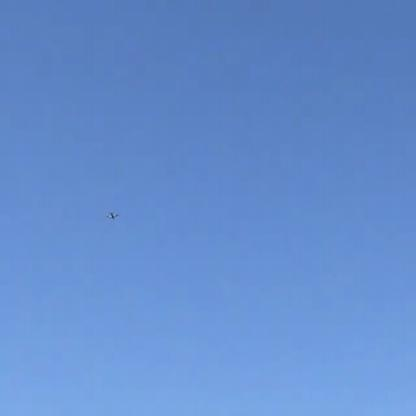CIV_Plane: (105, 212, 119, 221)
